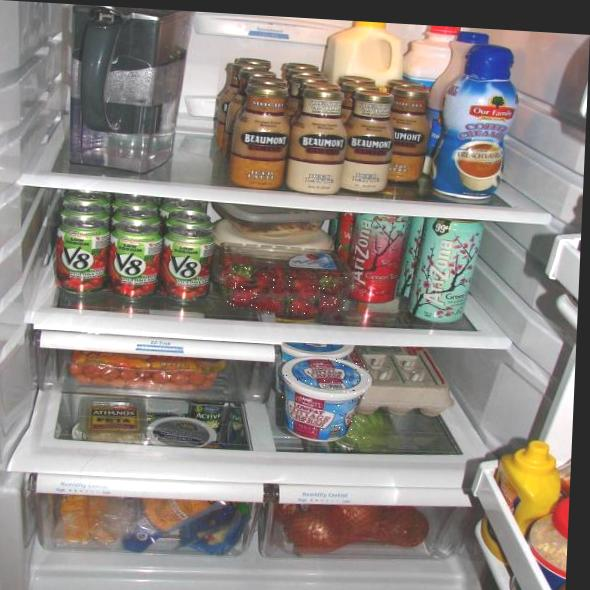strawberries: (284, 296, 323, 318), (227, 286, 261, 308), (313, 295, 345, 313), (289, 276, 322, 292), (322, 273, 347, 293), (229, 267, 252, 288), (261, 295, 282, 314), (256, 269, 275, 286), (269, 278, 290, 293)
yoghurt: (278, 355, 371, 444)
